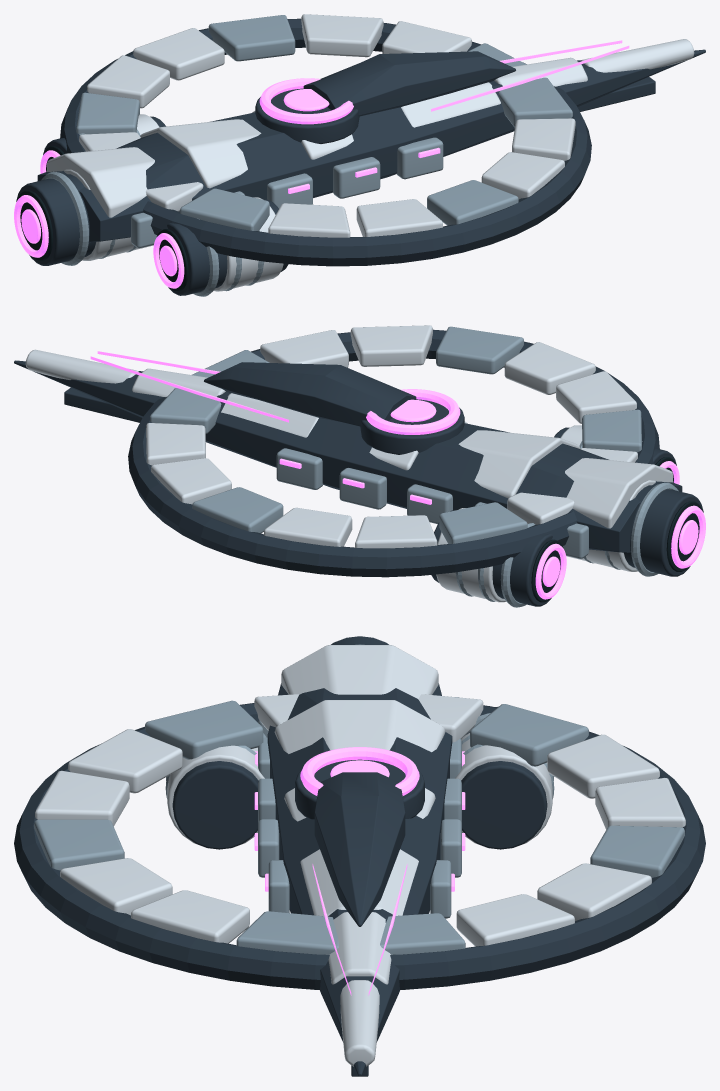
The model's file is ship-06.glb.
3 views of the same model, one above another, from view 1: azimuth 30°, elevation 25°; view 2: azimuth 150°, elevation 25°; view 3: azimuth 270°, elevation 25° (orthographic). The views are drawn at different scales.
Parts seen in each view (by area): view 1: Graphite frame, Ceramic titanium, Machined silver, Ion violet, Carbon insets; view 2: Graphite frame, Ceramic titanium, Machined silver, Ion violet, Carbon insets; view 3: Graphite frame, Ceramic titanium, Machined silver, Ion violet.
Boxes of the visible parts, x1=… form: Graphite frame: x1=16, y1=18, x2=705, y2=295; Ceramic titanium: x1=47, y1=14, x2=694, y2=291; Machined silver: x1=41, y1=15, x2=572, y2=296; Ion violet: x1=14, y1=40, x2=629, y2=288; Carbon insets: x1=17, y1=146, x2=188, y2=291; Graphite frame: x1=14, y1=329, x2=703, y2=606; Ceramic titanium: x1=25, y1=325, x2=672, y2=602; Machined silver: x1=150, y1=326, x2=678, y2=607; Ion violet: x1=90, y1=351, x2=705, y2=599; Carbon insets: x1=531, y1=457, x2=702, y2=602; Graphite frame: x1=14, y1=636, x2=705, y2=1076; Ceramic titanium: x1=35, y1=645, x2=685, y2=1066; Machined silver: x1=34, y1=644, x2=684, y2=954; Ion violet: x1=254, y1=747, x2=465, y2=995.
Bounding box in the file's own units: 6 × 1.12 × 4.28.
